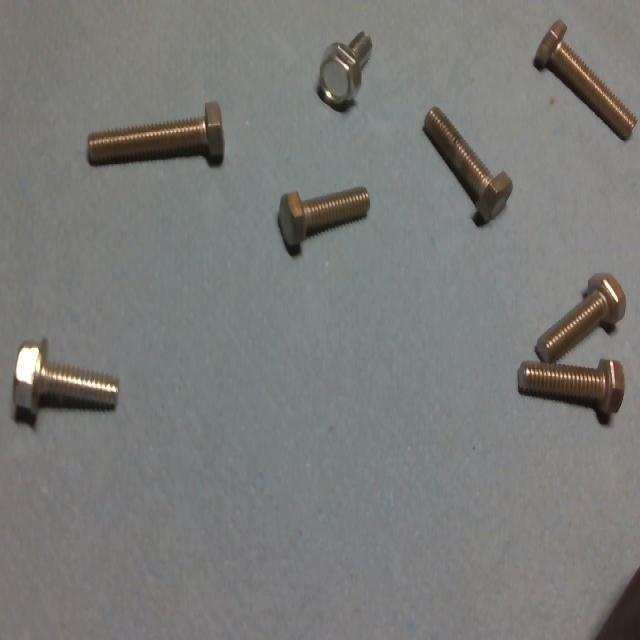Bolt: (533, 21, 636, 139), (422, 108, 512, 227), (86, 103, 223, 165), (14, 344, 118, 425), (534, 275, 627, 361), (517, 360, 624, 424), (278, 187, 370, 252), (316, 32, 372, 113)
